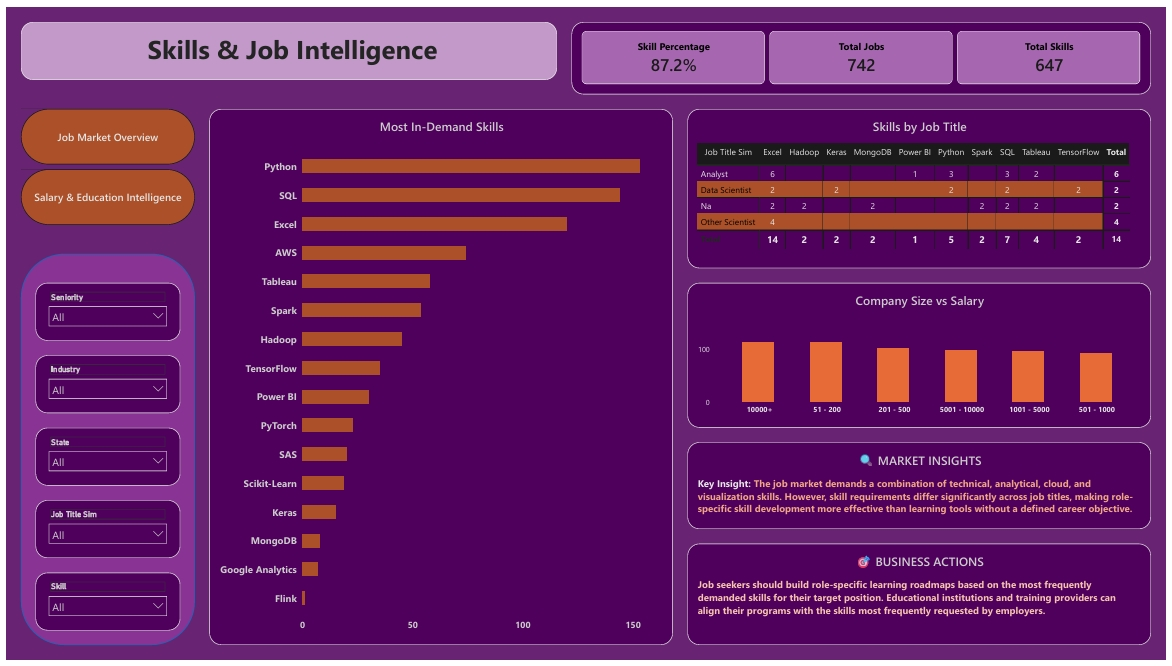

The dashboard page shown, as its layout file describes it:
{"tool":"powerbi","page":{"name":" Skills & Job Intelligence","canvas":[1920,1080],"ordinal":2},"visuals":[{"type":"shape","box":[24,408,288,648],"z":0},{"type":"textbox","box":[24,24,888,96],"z":1000},{"type":"cardVisual","fields":{"Data":["JobSkills.Skill Percentage","Job_M_Analysis.Total Jobs","JobSkills.Skill Job Count"]},"box":[936,24,960,120],"z":2000},{"type":"barChart","title":"Most In-Demand Skills","fields":{"Y":["JobSkills.Skill Job Count"],"Category":["JobSkills.Clean Skill"]},"box":[336,168,768,888],"z":3000},{"type":"pivotTable","title":"Skills by Job Title","fields":{"Columns":["JobSkills.Clean Skill"],"Values":["JobSkills.Skill Job Count"],"Rows":["Job_M_Analysis.job_title_sim"]},"box":[1128,168,768,264],"z":4000},{"type":"textbox","title":"🔍 MARKET INSIGHTS","box":[1128,720,768,144],"z":5000},{"type":"textbox","title":"🎯 BUSINESS ACTIONS","box":[1128,888,768,168],"z":6000},{"type":"slicer","fields":{"Values":["JobSkills.Clean Skill"]},"box":[48,936,240,96],"z":7000},{"type":"slicer","fields":{"Values":["Job_M_Analysis.job_title_sim"]},"box":[48,816,240,96],"z":8000},{"type":"slicer","title":"Seniority analysis","fields":{"Values":["Job_M_Analysis.seniority_by_title"]},"box":[48,456,240,96],"z":9000},{"type":"lineClusteredColumnComboChart","title":"Company Size vs Salary ","fields":{"Category":["Job_M_Analysis.Company Size"],"Y":["Job_M_Analysis.Average Salary"]},"box":[1128,456,768,240],"z":10000},{"type":"slicer","fields":{"Values":["Job_M_Analysis.Job_Location"]},"box":[48,696,240,96],"z":11000},{"type":"slicer","title":"Industry","fields":{"Values":["Job_M_Analysis.Industry"]},"box":[48,576,240,96],"z":12000},{"type":"pageNavigator","box":[24,168,288,192],"z":13000}]}

Visuals, with their boxes in screenshot pixels (x1, y1, x2, y2), scaled from the page's 1920x1080 canvas onto the 1172x666 screenshot:
shape: [left=15, top=252, right=190, bottom=651]
textbox: [left=15, top=15, right=557, bottom=74]
cardVisual - JobSkills.Skill Percentage x Job_M_Analysis.Total Jobs: [left=571, top=15, right=1157, bottom=89]
"Most In-Demand Skills" barChart: [left=205, top=104, right=674, bottom=651]
"Skills by Job Title" pivotTable: [left=689, top=104, right=1157, bottom=266]
"🔍 MARKET INSIGHTS" textbox: [left=689, top=444, right=1157, bottom=533]
"🎯 BUSINESS ACTIONS" textbox: [left=689, top=548, right=1157, bottom=651]
slicer - JobSkills.Clean Skill: [left=29, top=577, right=176, bottom=636]
slicer - Job_M_Analysis.job_title_sim: [left=29, top=503, right=176, bottom=562]
"Seniority analysis" slicer: [left=29, top=281, right=176, bottom=340]
"Company Size vs Salary " lineClusteredColumnComboChart: [left=689, top=281, right=1157, bottom=429]
slicer - Job_M_Analysis.Job_Location: [left=29, top=429, right=176, bottom=488]
"Industry" slicer: [left=29, top=355, right=176, bottom=414]
pageNavigator: [left=15, top=104, right=190, bottom=222]
